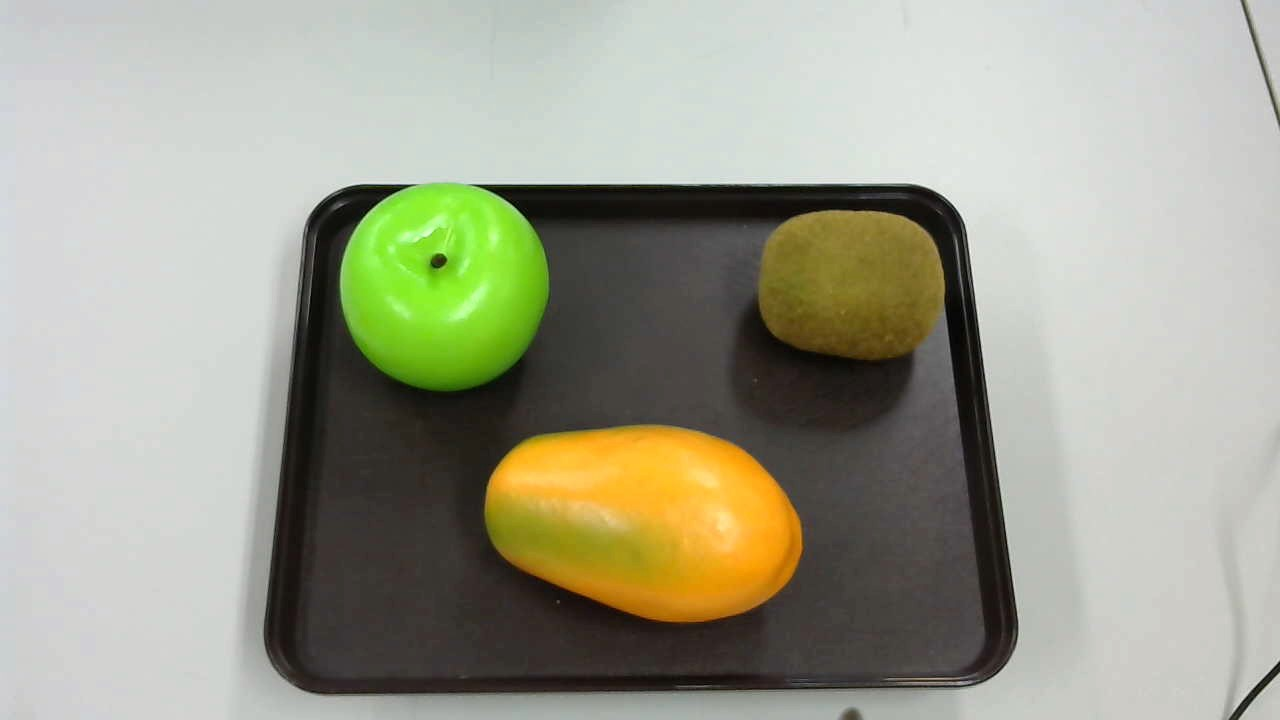green apple: (339, 182, 556, 399)
kiwi fruit: (758, 201, 944, 373)
papya: (479, 424, 807, 624)
